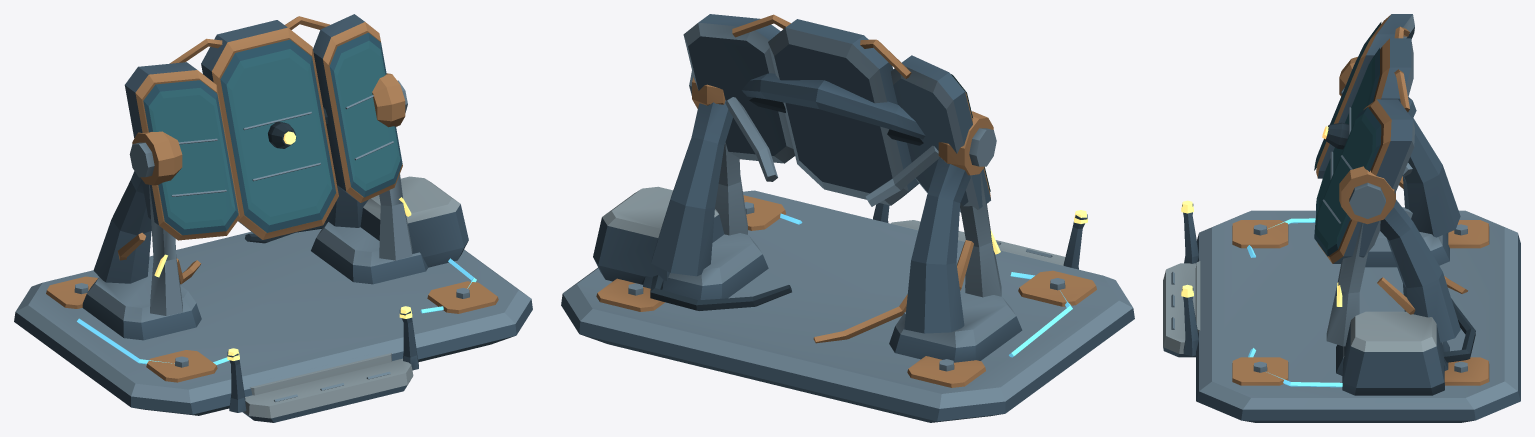
The model's file is frost-radiometer.glb.
3 views of the same model, side by side, from view 1: azimuth 30°, elevation 25°; view 2: azimuth 150°, elevation 25°; view 3: azimuth 270°, elevation 25° (orthographic). The views are drawn at different scales.
Visible parts, largest first — view 1: frost-radiometer, Radiometer_Pivot; view 2: frost-radiometer, Radiometer_Pivot; view 3: frost-radiometer, Radiometer_Pivot.
Boxes of the visible parts, <box> form: frost-radiometer: <box>14,73,532,422</box>; Radiometer_Pivot: <box>124,14,402,240</box>; frost-radiometer: <box>561,71,1134,422</box>; Radiometer_Pivot: <box>683,14,990,212</box>; frost-radiometer: <box>1163,57,1520,422</box>; Radiometer_Pivot: <box>1314,14,1416,263</box>.
Bounding box in the file's own units: 6.06 × 4.12 × 4.67.
